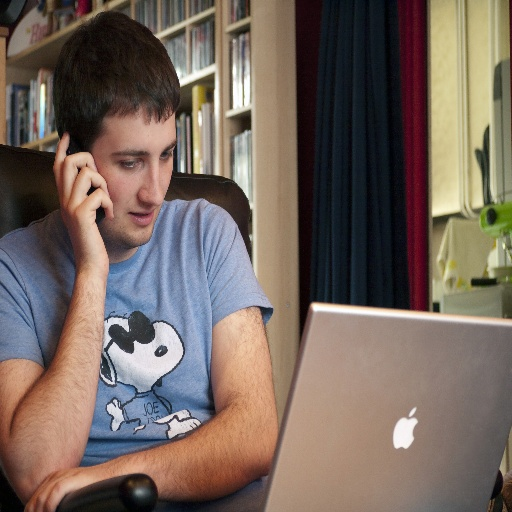hand: (52, 129, 109, 262), (23, 468, 92, 511)
